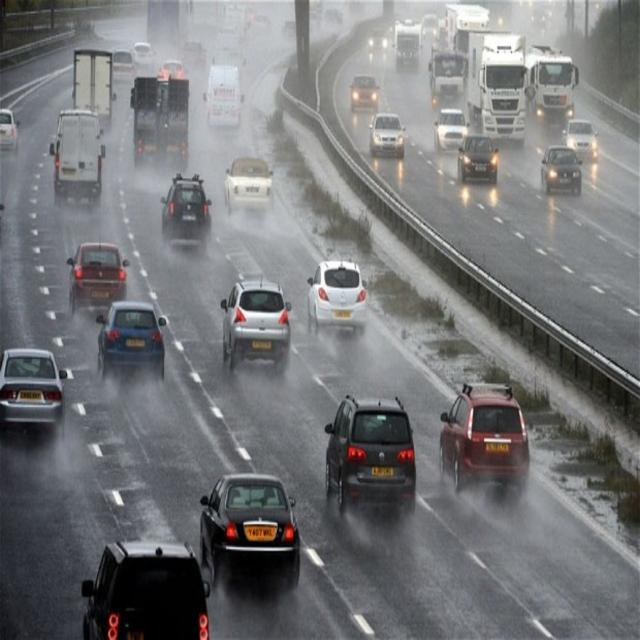bus: (460, 30, 526, 144), (130, 81, 189, 170), (528, 46, 581, 130), (72, 46, 112, 130), (204, 66, 243, 133), (430, 57, 463, 105), (394, 17, 422, 72)
car: (81, 536, 211, 639), (196, 472, 300, 591), (323, 395, 415, 513), (438, 381, 530, 497), (220, 278, 292, 372), (2, 348, 66, 429), (305, 258, 367, 331), (53, 111, 103, 200), (101, 301, 165, 369), (70, 240, 126, 305), (223, 156, 273, 212), (161, 179, 211, 234), (540, 147, 583, 196), (458, 135, 500, 184), (368, 112, 406, 159), (564, 119, 598, 164), (434, 108, 468, 152), (348, 74, 379, 112), (112, 47, 136, 85), (178, 38, 209, 66), (0, 108, 18, 153), (367, 23, 390, 52), (158, 60, 182, 80), (134, 41, 154, 64)
